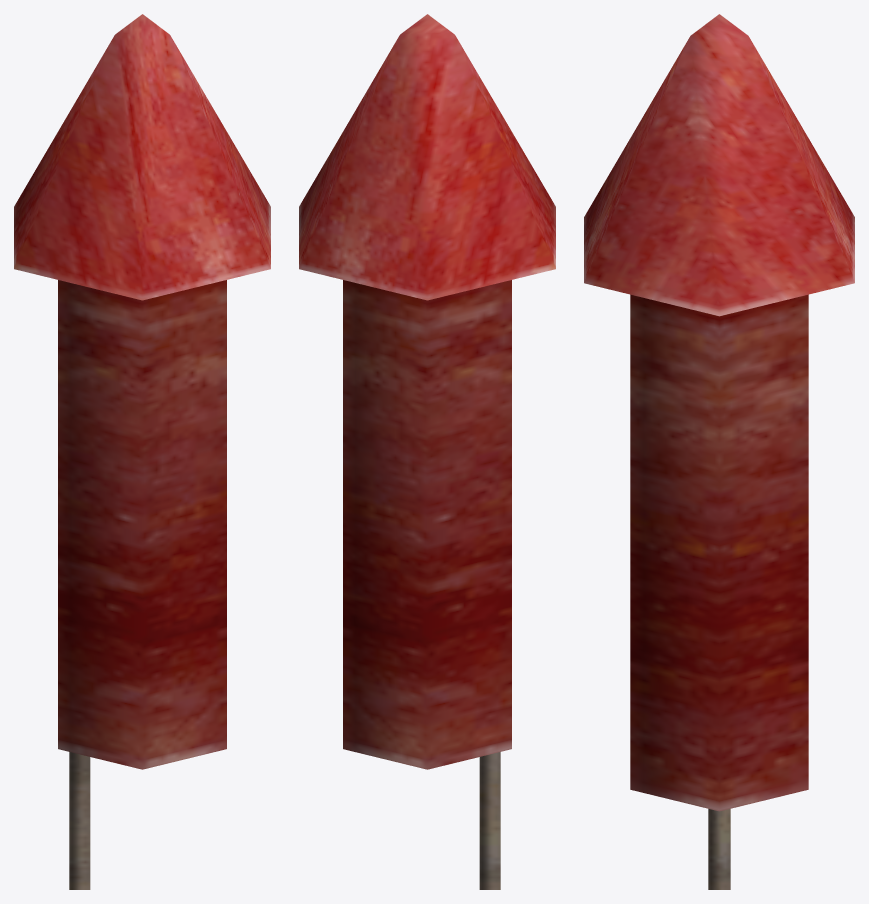
File: eqp_firework.fbx
3 views of the same model, side by side, from view 1: azimuth 30°, elevation 25°; view 2: azimuth 150°, elevation 25°; view 3: azimuth 270°, elevation 25° (orthographic). The views are drawn at different scales.
Visible parts, largest first — view 1: mesh_node; view 2: mesh_node; view 3: mesh_node.
Part boxes in pixels (x1=…): mesh_node: x1=14, y1=14, x2=270, y2=889; mesh_node: x1=299, y1=14, x2=555, y2=889; mesh_node: x1=584, y1=14, x2=854, y2=889.
Size of the model in its own units: 0.2075 by 0.663 by 0.1797.
